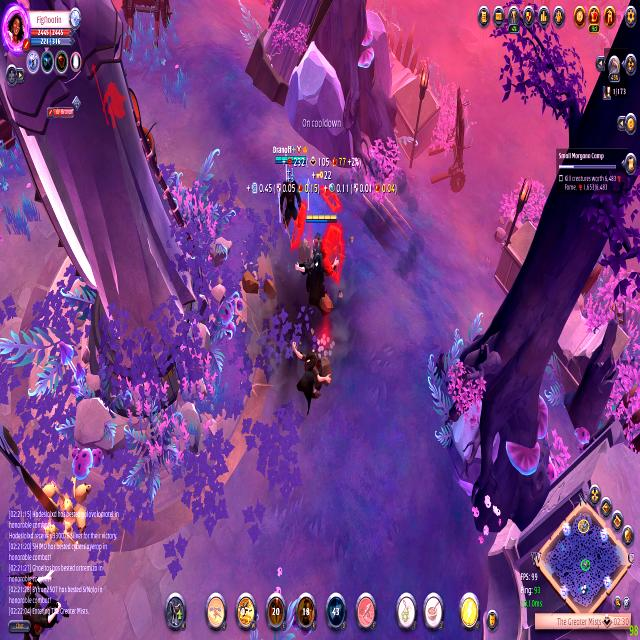ore: (8, 563, 62, 640), (86, 58, 134, 138)
red: (269, 142, 308, 240), (304, 207, 341, 274)
stone: (316, 328, 336, 364)
